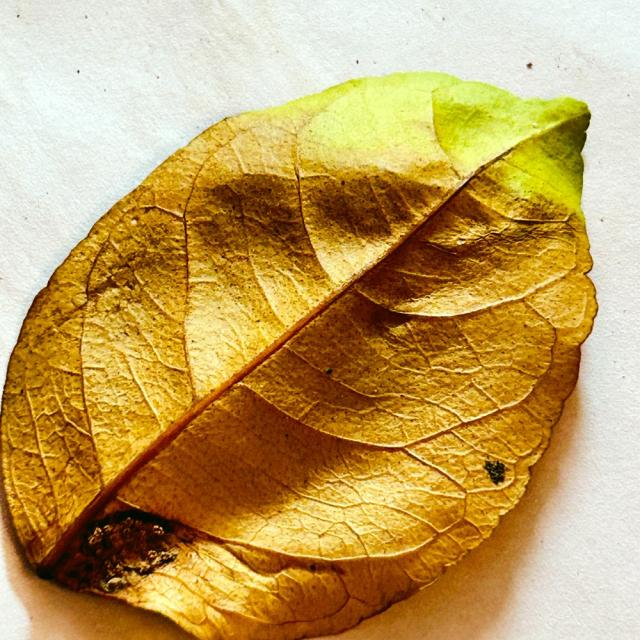DryLeaf_Lemon: (0, 72, 597, 639)
